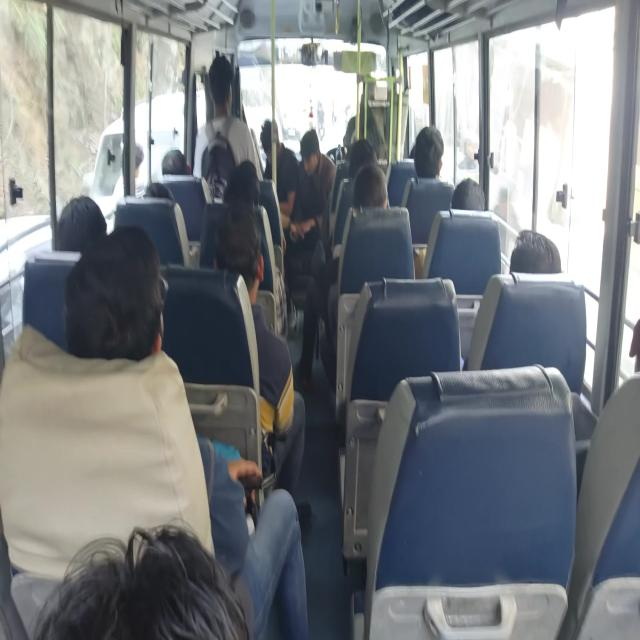person: (62, 224, 308, 638), (31, 440, 308, 639), (212, 202, 306, 499), (31, 520, 251, 639), (293, 163, 389, 389), (193, 53, 263, 183), (289, 128, 335, 255), (259, 118, 299, 228), (57, 194, 107, 252), (509, 229, 561, 273), (111, 141, 144, 200), (352, 164, 389, 210), (413, 125, 444, 179), (347, 138, 377, 180), (451, 177, 485, 211), (161, 148, 191, 176), (457, 136, 478, 170)
